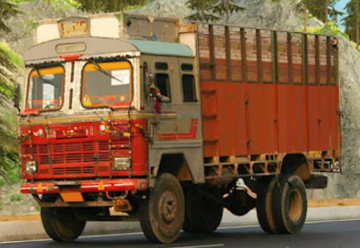truck: (15, 9, 343, 245)
